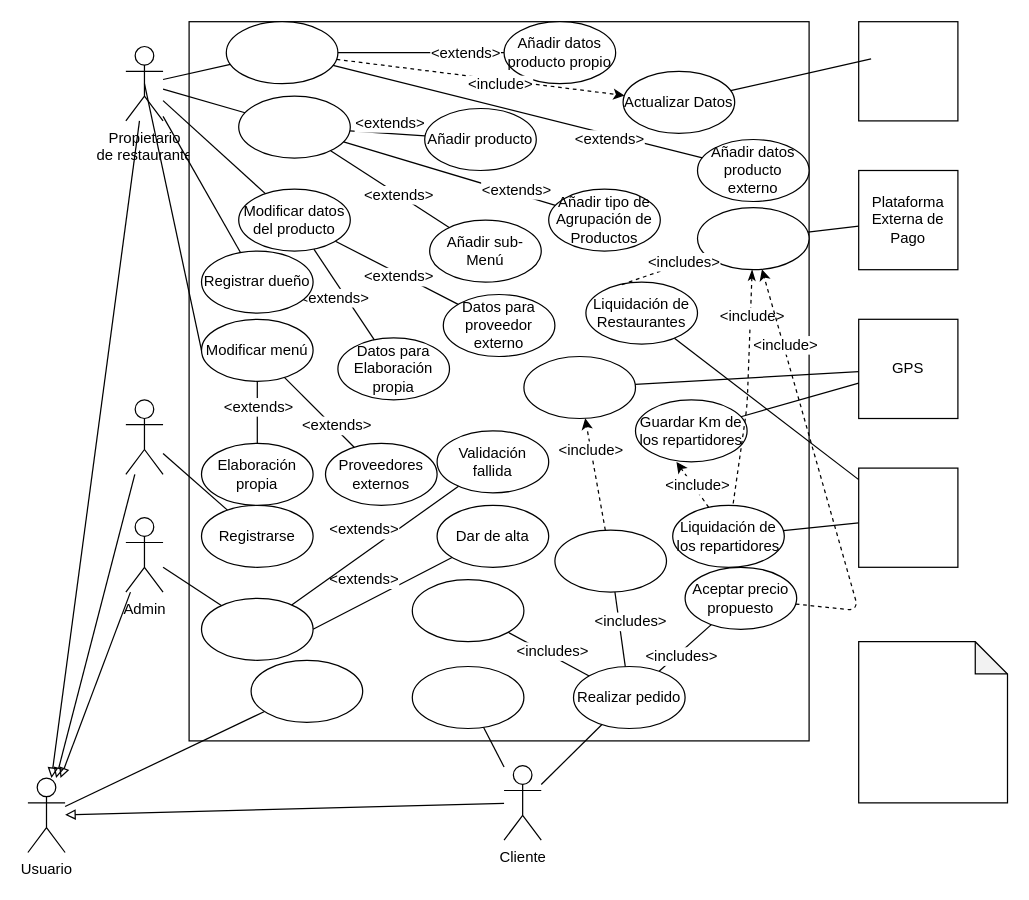
The diagram is 1029 pixels wide and 900 high, and some of its shapes have lost their labels. The shapes that lost their labels are listed below. From the top down, each one's centre as x and y in pixels, then its label:
At [281,52]: "Registrar producto".
At [907,70]: "Base de Datos".
At [293,126]: "Registrar Menú".
At [752,238]: "Realizar pago".
At [579,386]: "Asignar a repartidor cercano".
At [144,436]: "Repartidor".
At [907,517]: "Sistema".
At [610,560]: "Confirmar pedido".
At [256,628]: "Validar repartidor".
At [467,610]: "Añadir Productos".
At [306,690]: "Autenticarse".
At [467,696]: "Registrar Cliente".
At [932,721]: "Antes de realizar cualquier acción todos los usuarios han de autenticarse".
